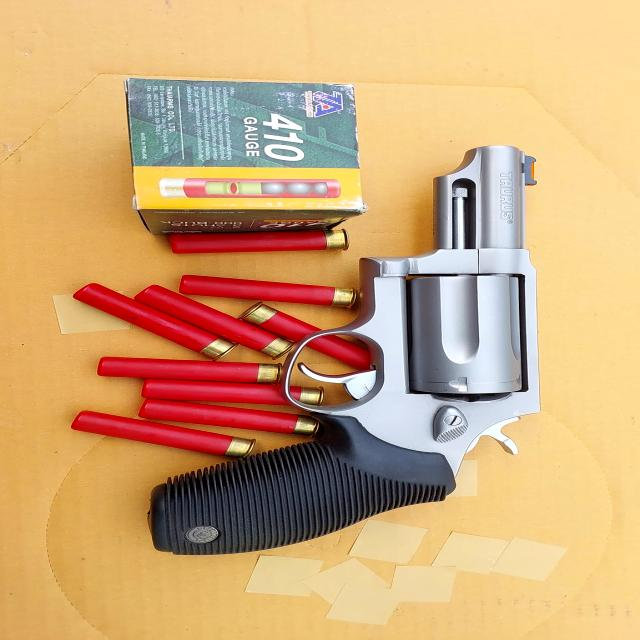revolver: (37, 130, 627, 569)
